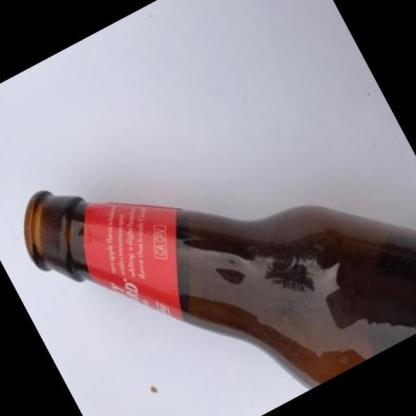Can: (22, 24, 416, 416)
